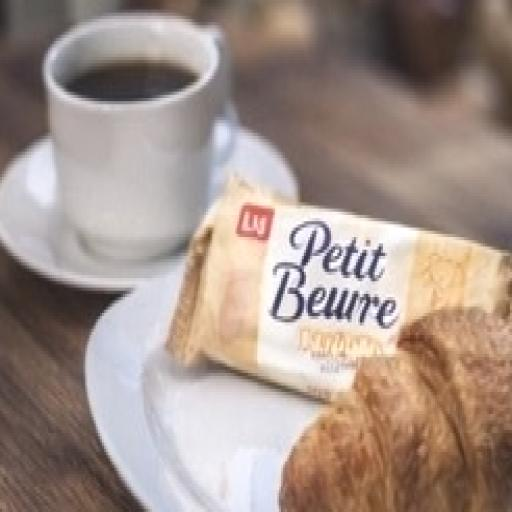petit-beurre: (162, 104, 512, 436)
